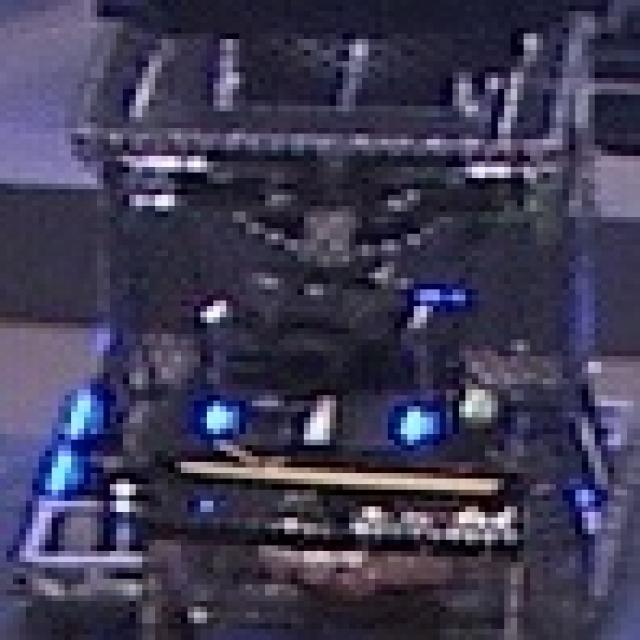B1: (200, 390, 440, 445)
